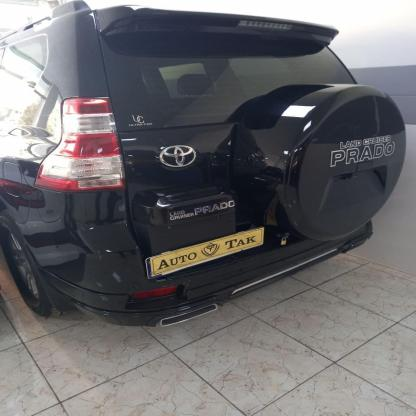Car: (0, 29, 416, 326)
